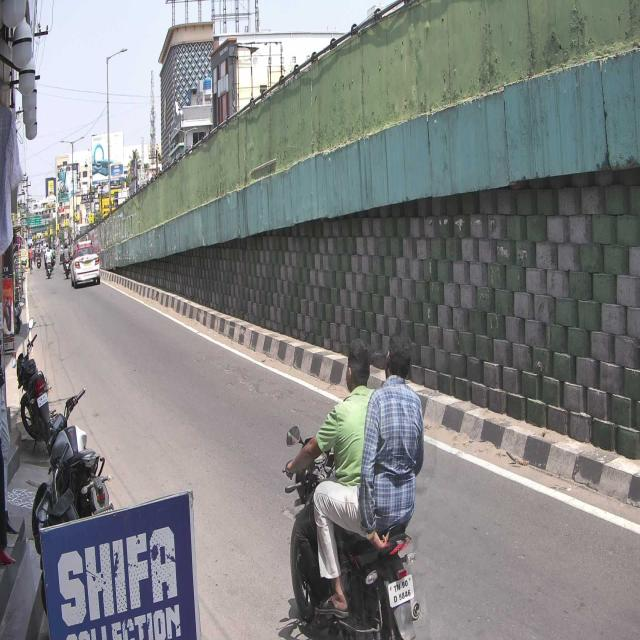double_rider: (281, 332, 427, 637)
